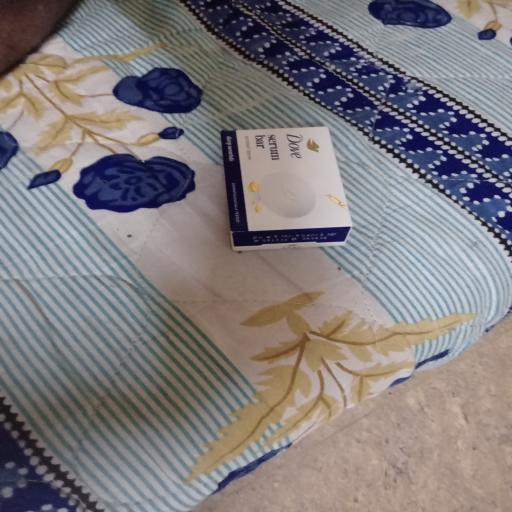Dove`1: (219, 124, 362, 251)
